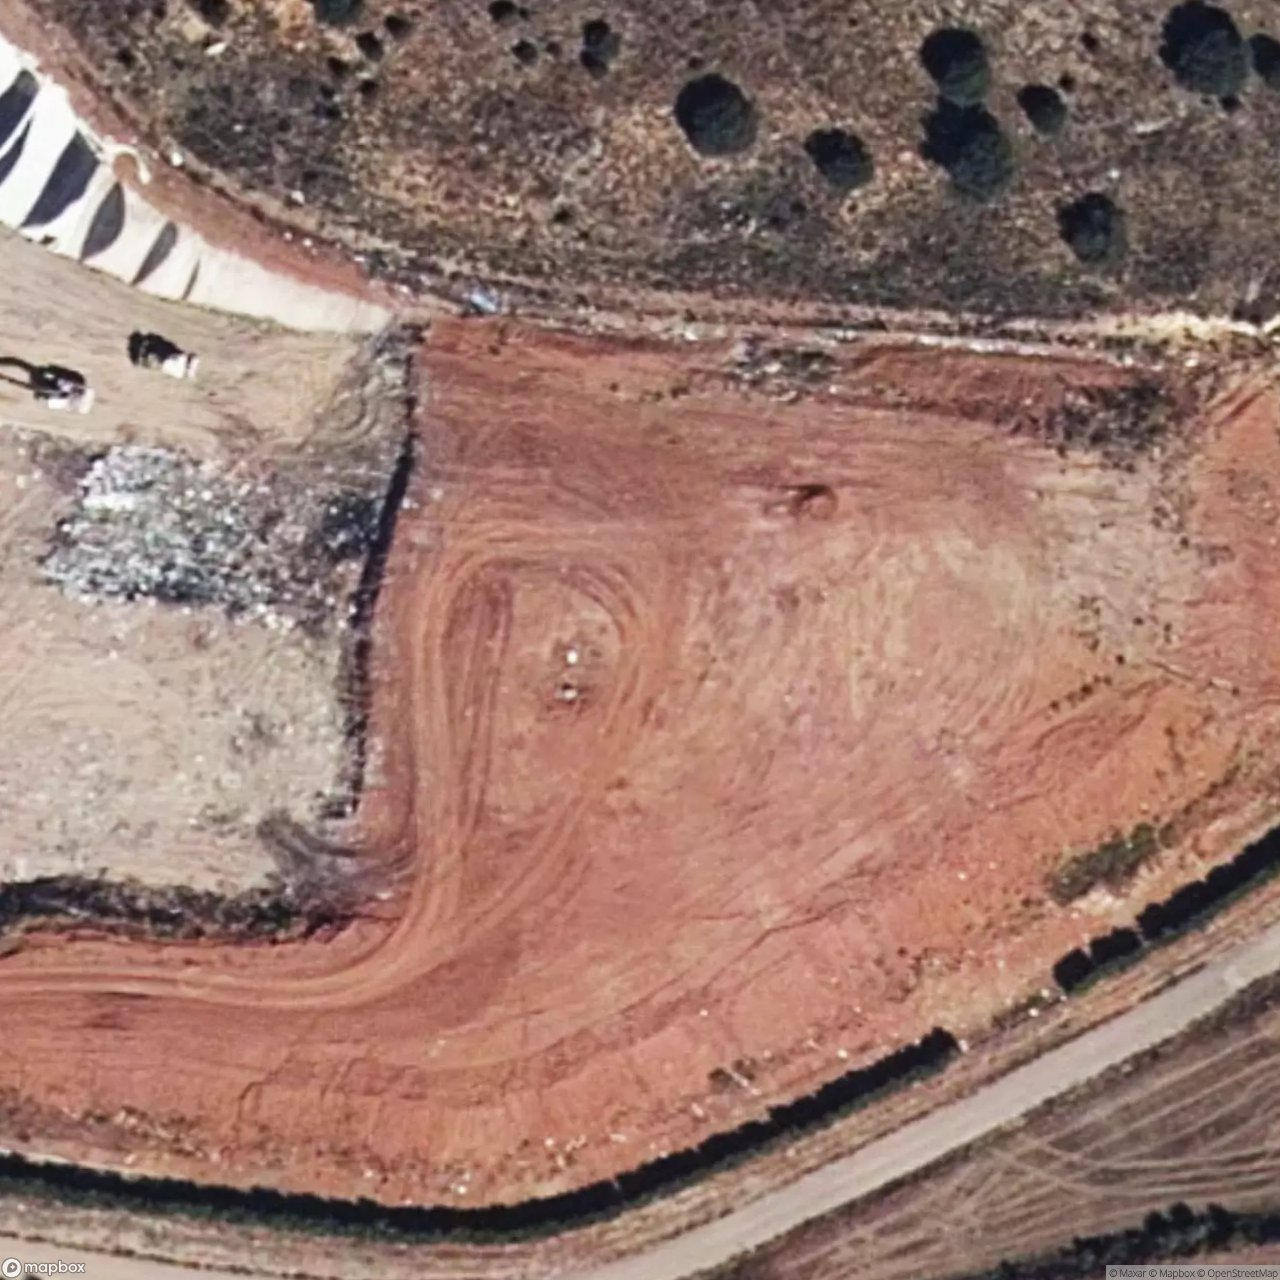dump_site: (4, 414, 404, 655)
